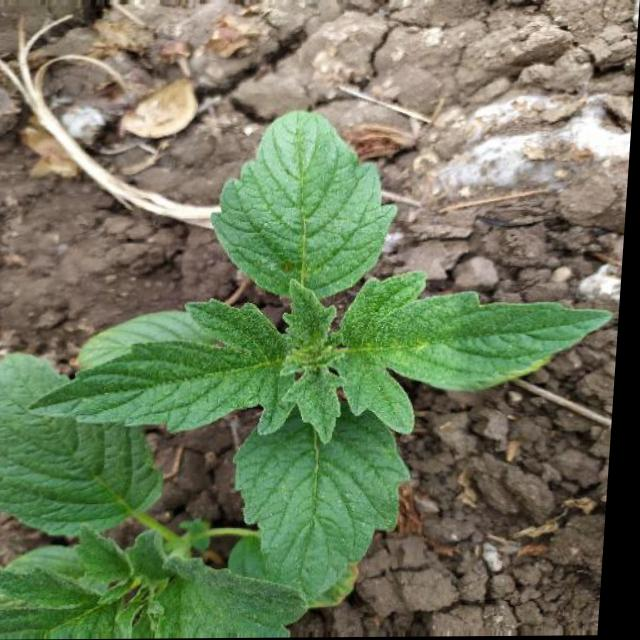crop: (27, 78, 632, 602)
